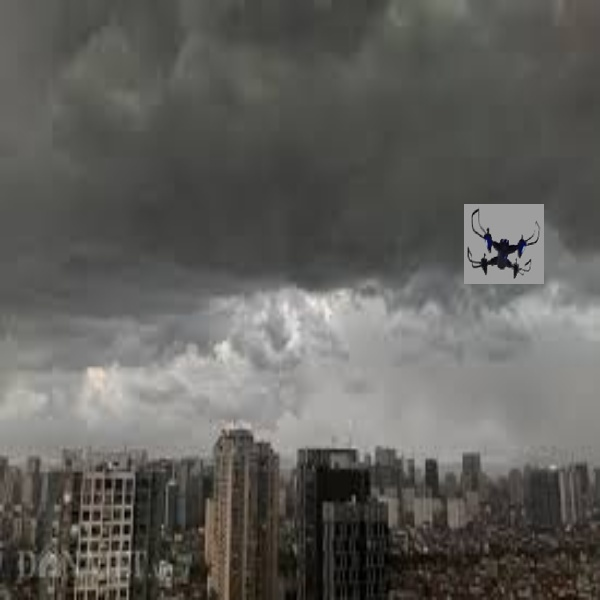drone: (462, 204, 542, 282)
